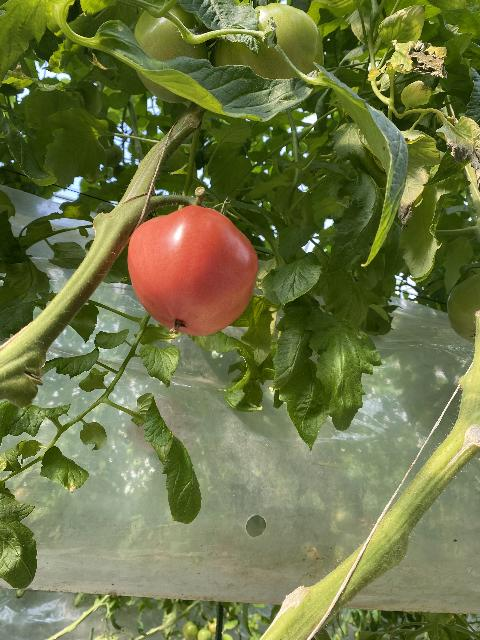b_fully_ripened: (128, 205, 259, 336)
b_green: (214, 2, 324, 106), (133, 1, 210, 103), (447, 274, 480, 345)
